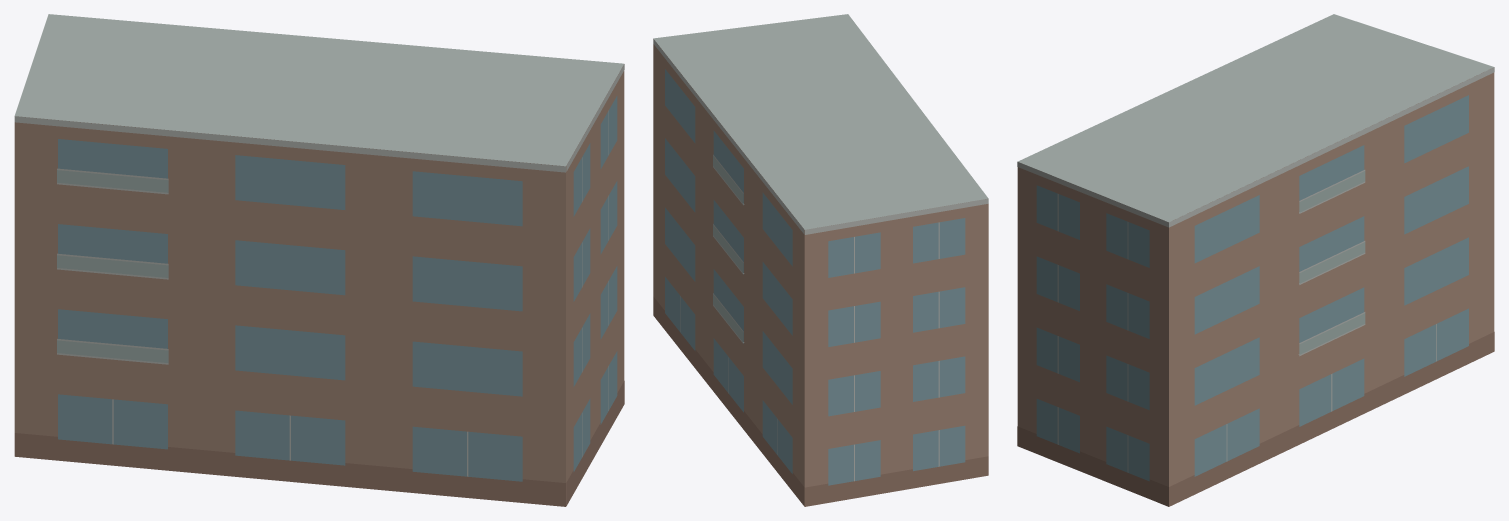
File: survey-upis-32993420.glb
The picture shows the model from 3 angles, left to right: view 1: azimuth 30°, elevation 25°; view 2: azimuth 150°, elevation 25°; view 3: azimuth 270°, elevation 25°; orthographic projection. The views are drawn at different scales.
Parts seen in each view (by area): view 1: survey-upis-32993420.tmp; view 2: survey-upis-32993420.tmp; view 3: survey-upis-32993420.tmp.
Part boxes in pixels (x1,y1,x2,y2): survey-upis-32993420.tmp: (14,14,624,506); survey-upis-32993420.tmp: (653,14,988,506); survey-upis-32993420.tmp: (1017,14,1494,506).
Bounding box in the file's own units: 20.74 × 13.2 × 20.06.
